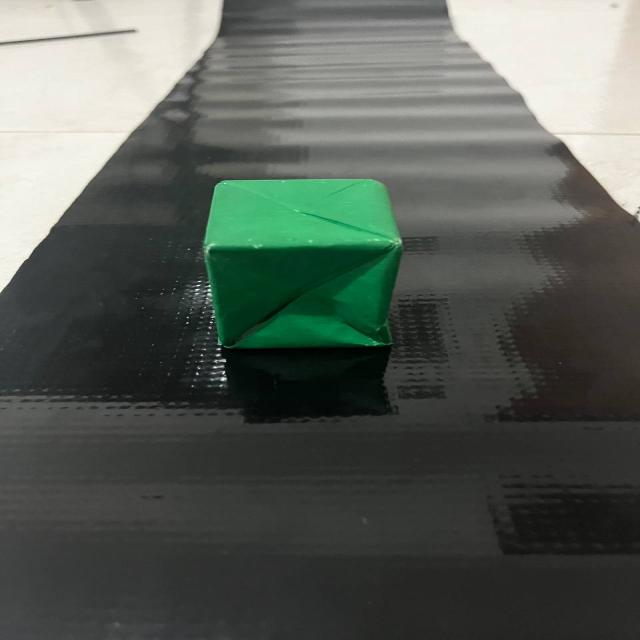Verde: (175, 166, 437, 368)
